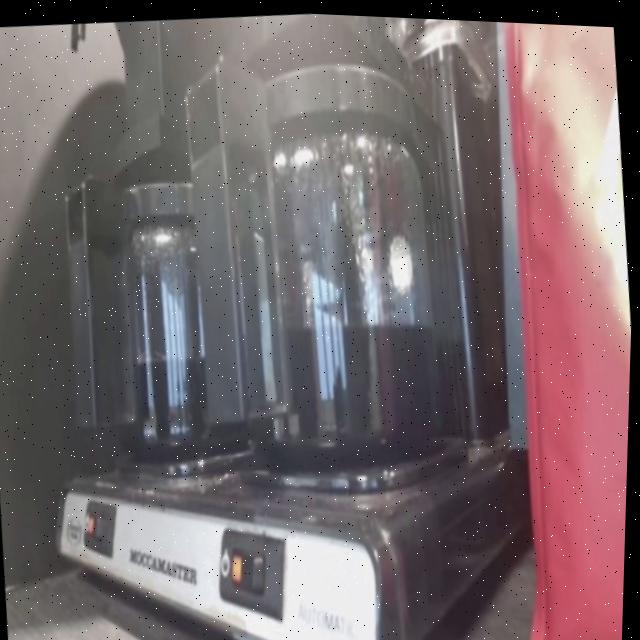coffee: (192, 39, 479, 482), (84, 143, 259, 464)
